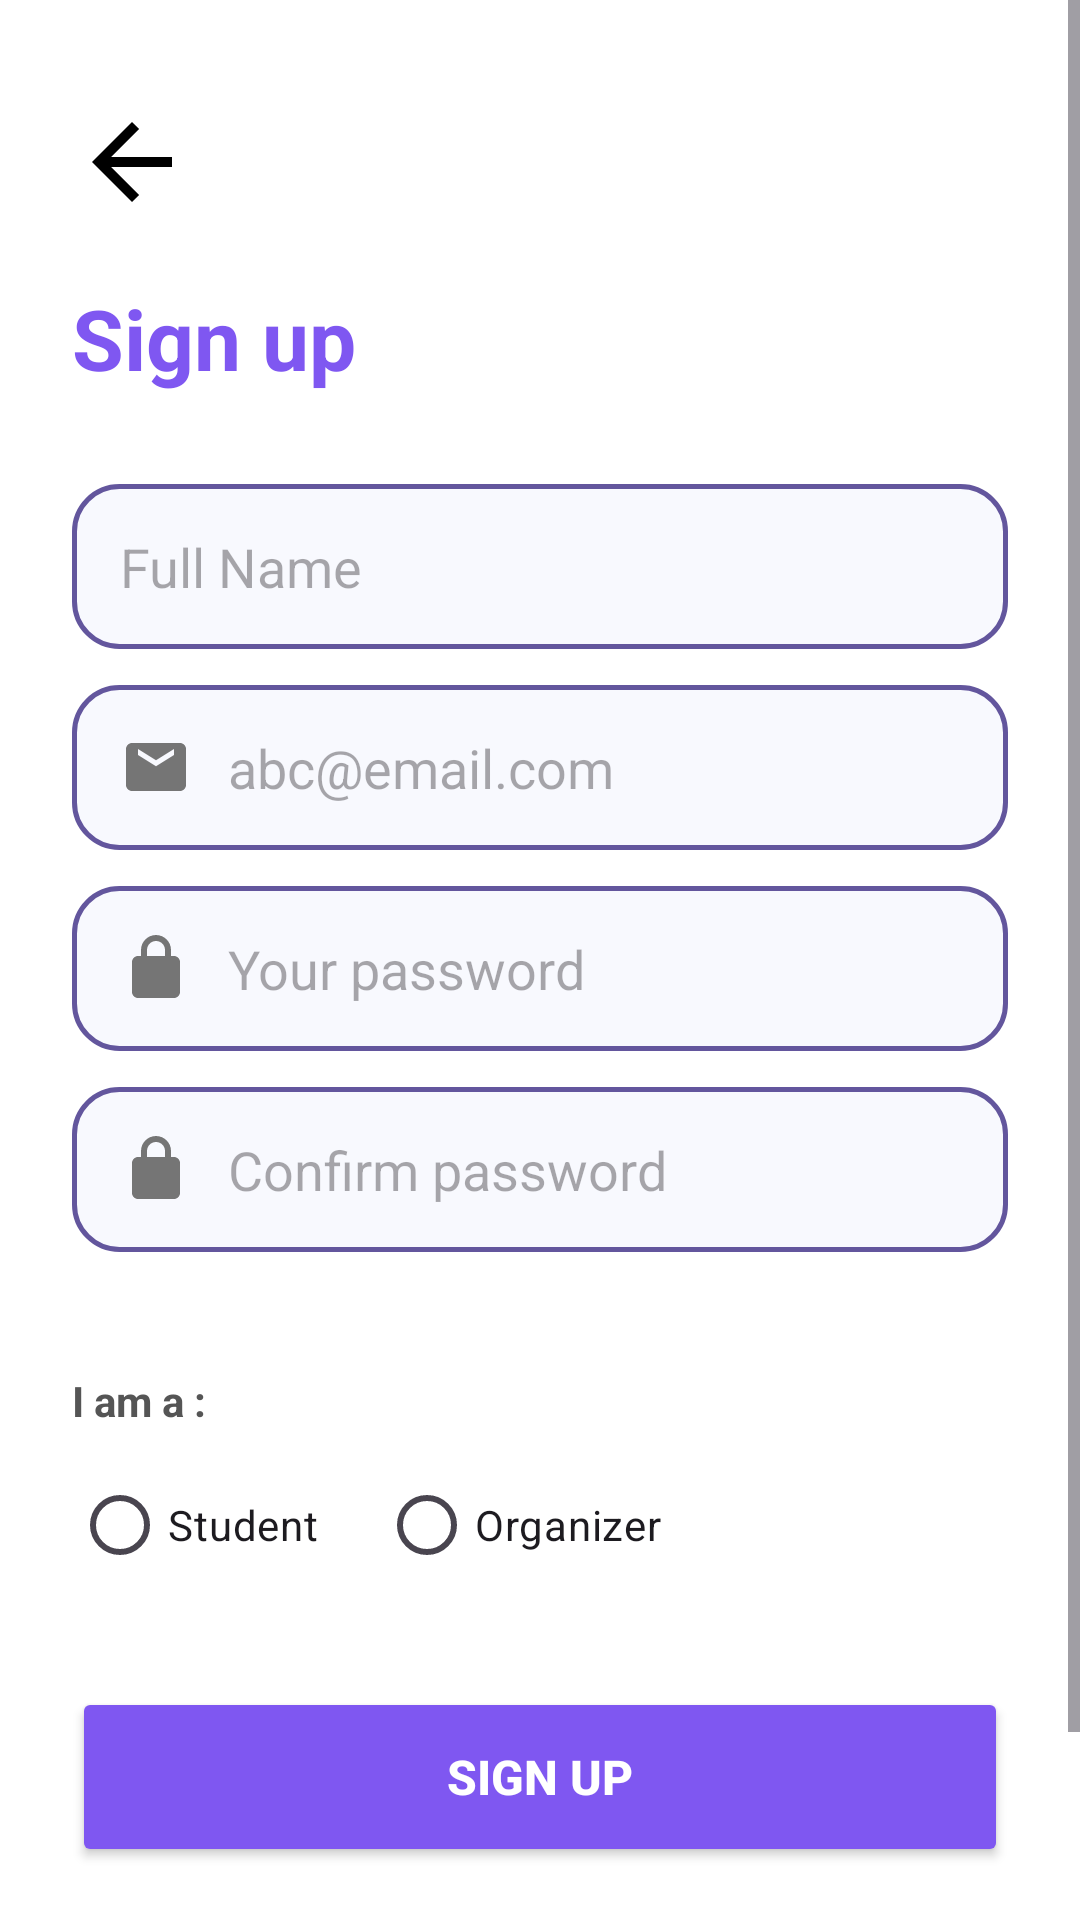

Point at icon controls on the screen. Image size 1080px×1920px, points as (x=x, y=y).
back: (x=132, y=162)
